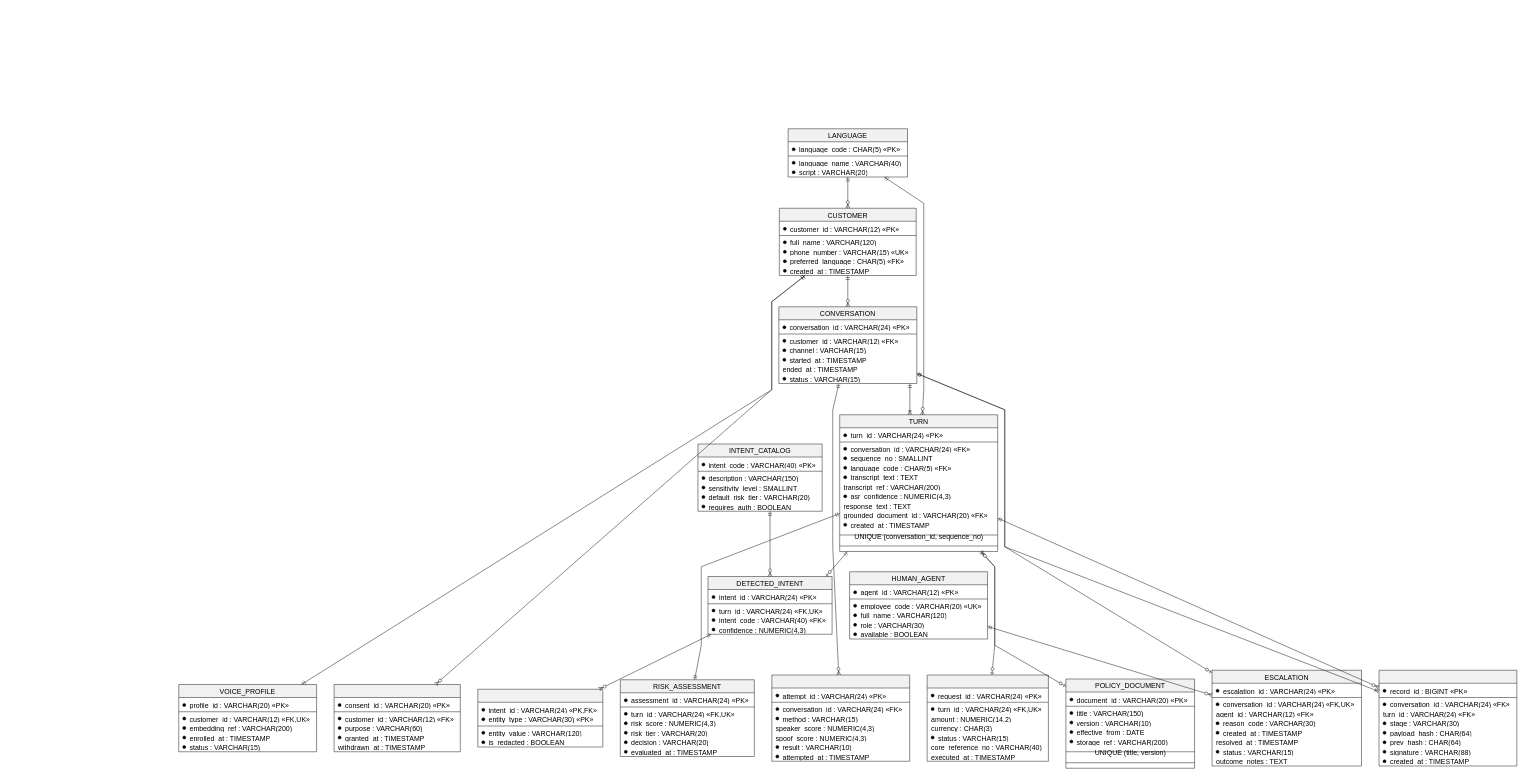
Image size: 1526x777. Some labels were removed from this diagram. Here are the shapes that lost their labels. From the top down, the box of each, then its label:
(334, 684, 460, 752): CONSENT_RECORD
(477, 689, 603, 747): EXTRACTED_ENTITY
(771, 674, 910, 761): AUTH_ATTEMPT
(927, 674, 1048, 761): BANKING_REQUEST
(1378, 670, 1517, 766): AUDIT_RECORD
